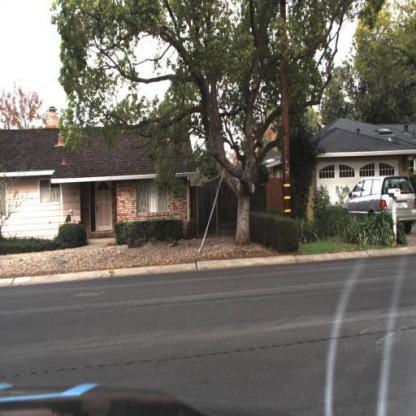car: (342, 176, 416, 230)
